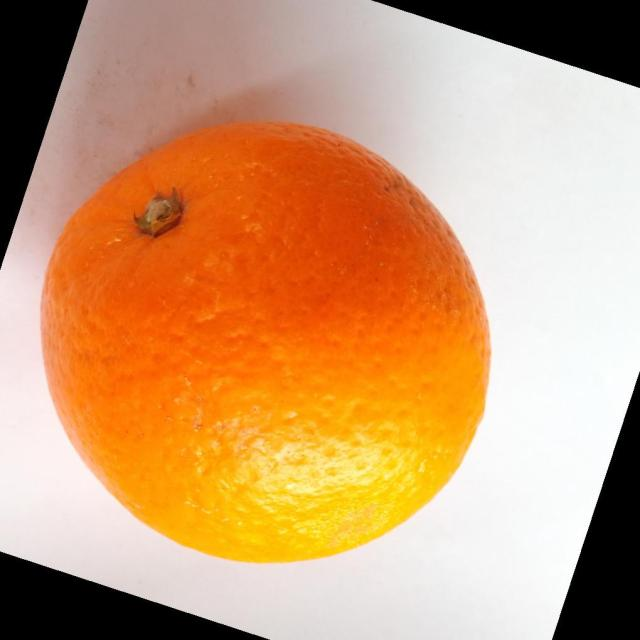fresh orange: (39, 119, 492, 564)
